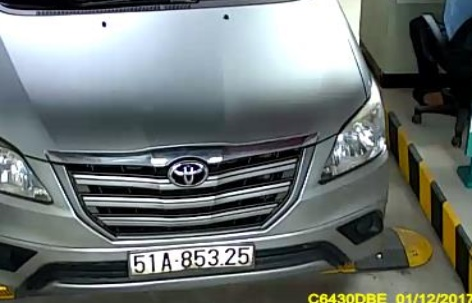plate: (127, 239, 257, 276)
